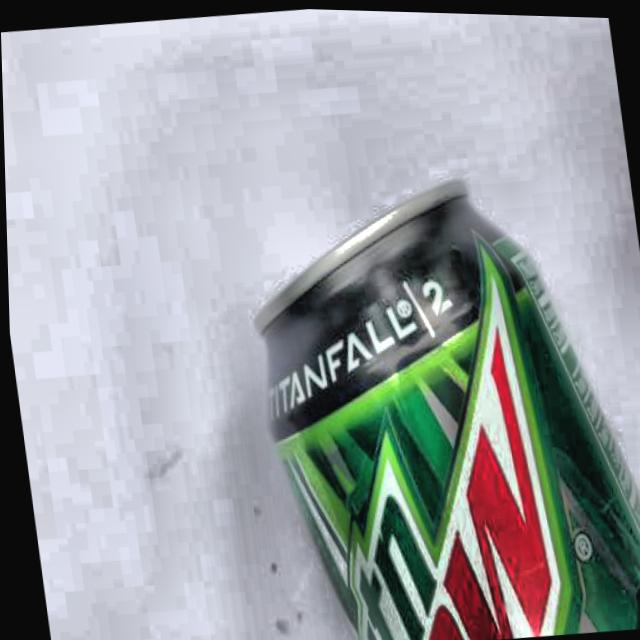Cans: (193, 126, 640, 640)
